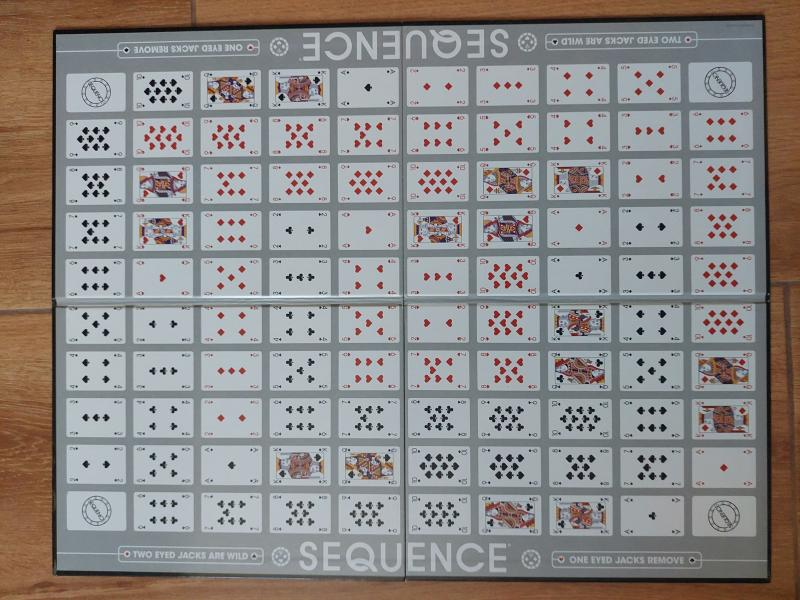Board: (46, 10, 776, 589)
